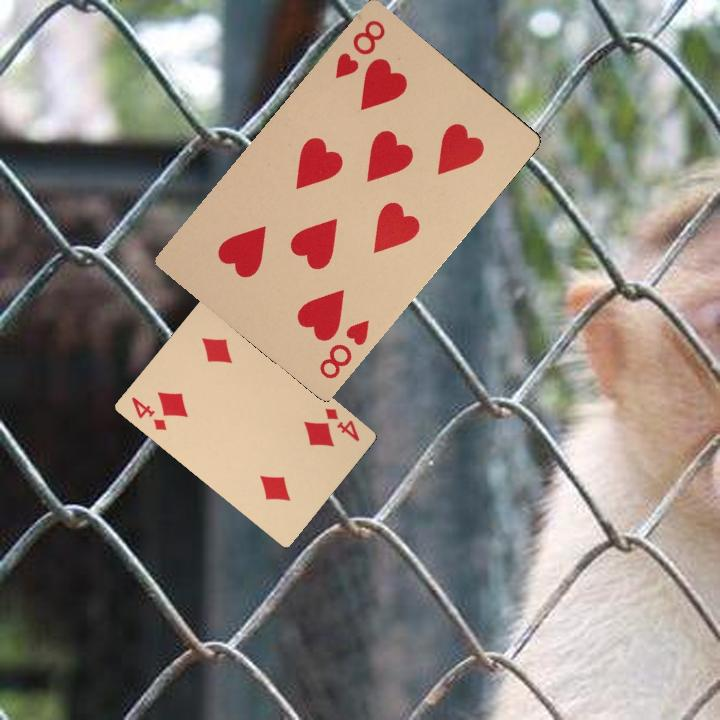4d: (127, 393, 170, 433), (321, 404, 362, 444)
8h: (314, 316, 373, 382), (330, 16, 388, 81)
